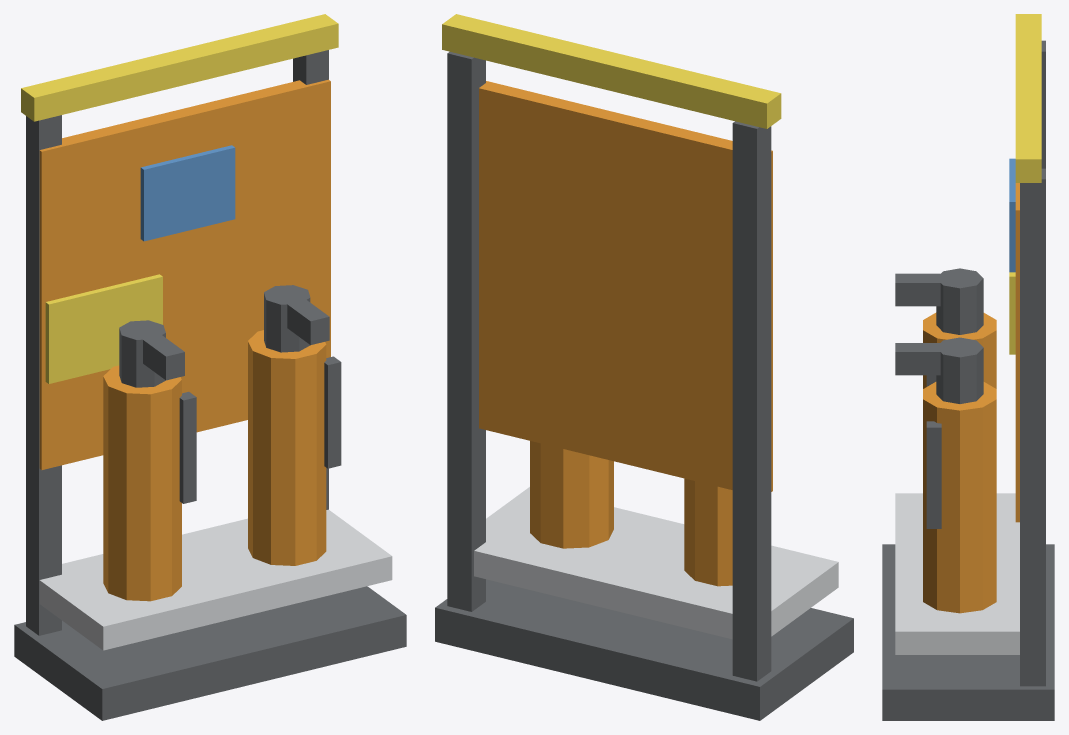
Rendered from recycling-and-waste-transfer-yard-recycling-and-waste--5052772a__34932.glb.
3 renders of one model, left to right at view 1: azimuth 30°, elevation 25°; view 2: azimuth 150°, elevation 25°; view 3: azimuth 270°, elevation 25°, orthographic. The views are drawn at different scales.
Parts seen in each view (by area): view 1: recycling-and-waste-transfer-yard-fire-point; view 2: recycling-and-waste-transfer-yard-fire-point; view 3: recycling-and-waste-transfer-yard-fire-point.
Part boxes in pixels (x1,y1,x2,y2): recycling-and-waste-transfer-yard-fire-point: [14, 14, 406, 720]; recycling-and-waste-transfer-yard-fire-point: [435, 14, 853, 720]; recycling-and-waste-transfer-yard-fire-point: [882, 14, 1054, 720].
Bounding box in the file's own units: 0.8 × 1.44 × 0.4.
